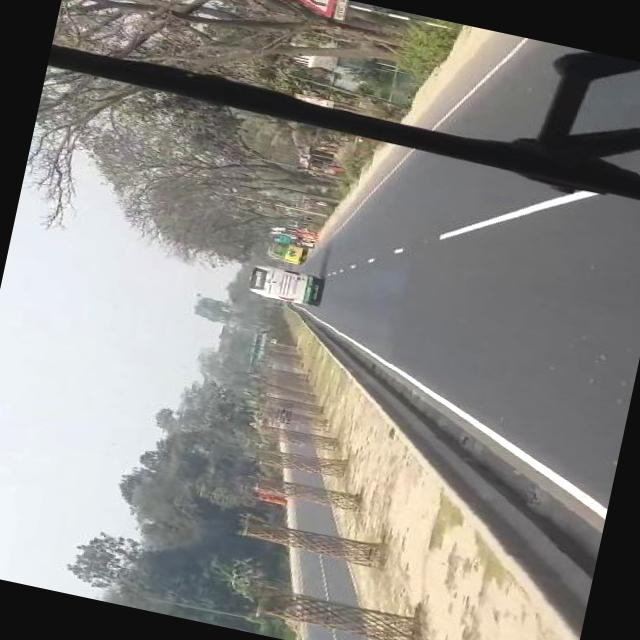bus: (246, 259, 322, 306), (268, 240, 303, 264), (247, 330, 268, 358)
car: (260, 396, 292, 422)
